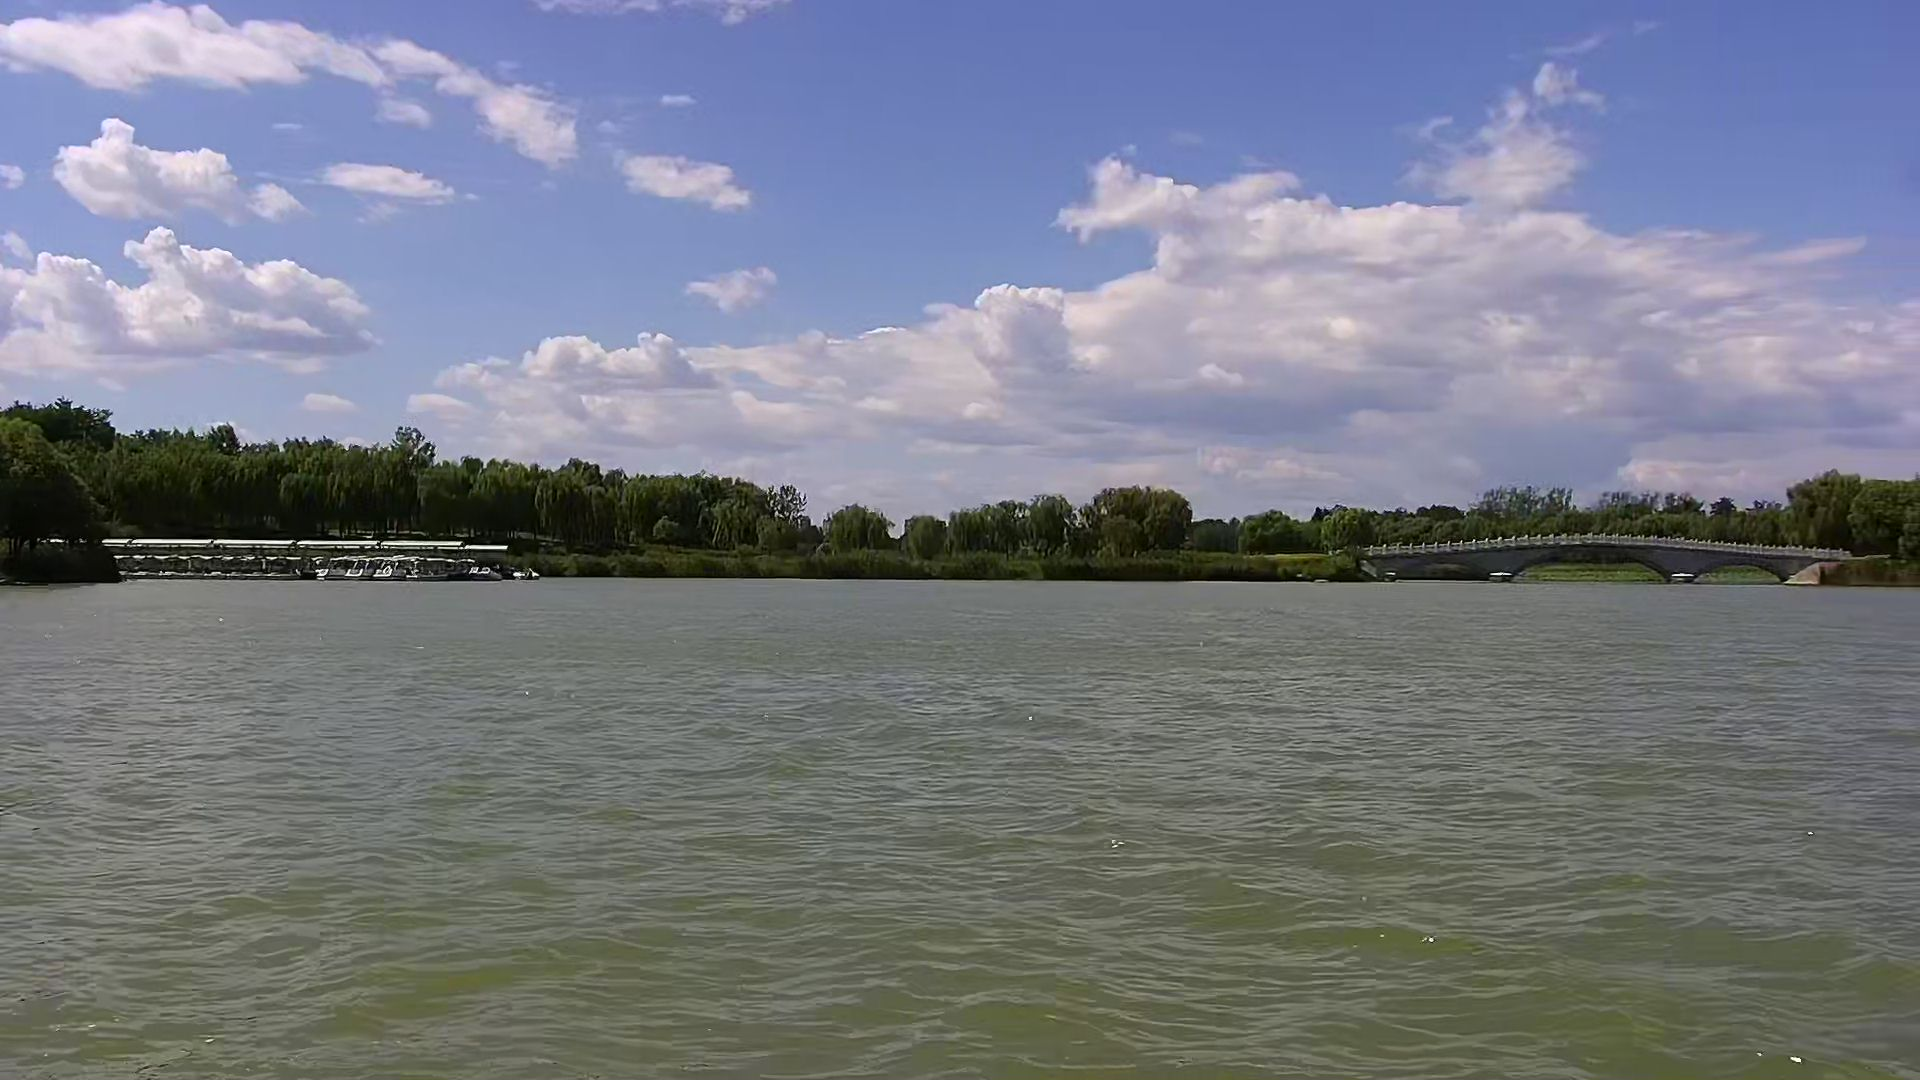bridge: (1361, 533, 1840, 588)
harbor: (105, 535, 539, 587)
